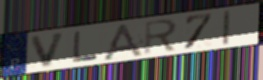7: (183, 11, 215, 51)
A: (100, 21, 146, 61)
I: (221, 8, 232, 47)
L: (72, 30, 100, 64)
R: (142, 18, 179, 57)
V: (29, 30, 69, 69)
